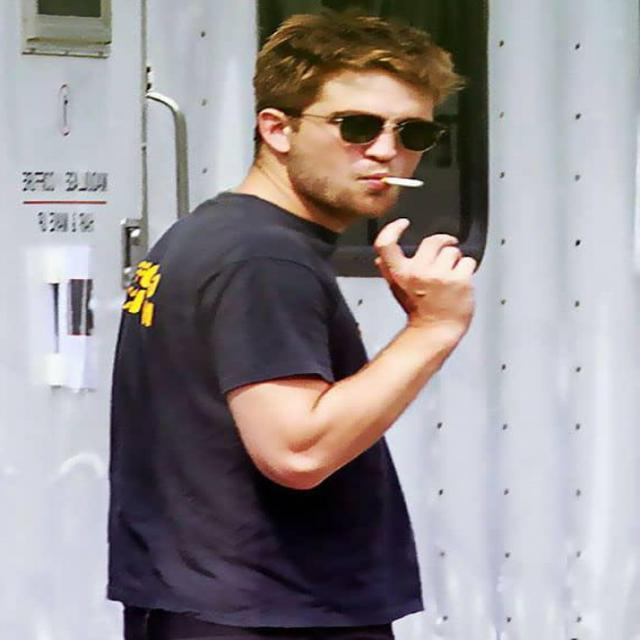cigarette: (365, 165, 439, 198)
